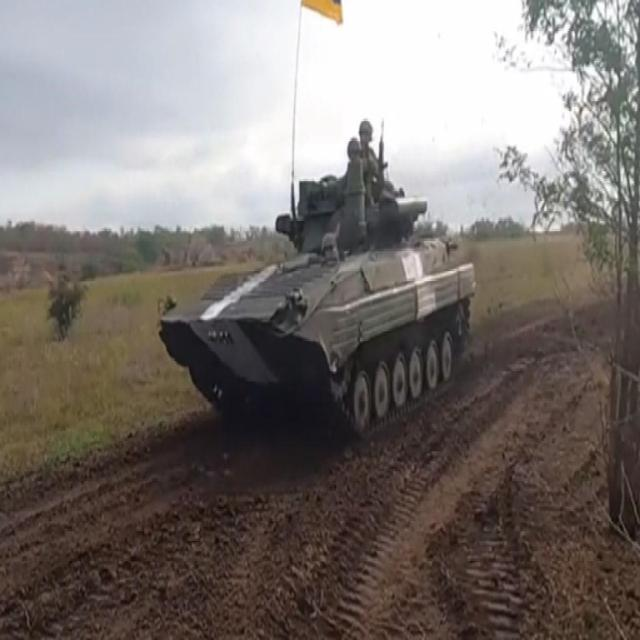APC-IFV: (149, 111, 476, 425)
